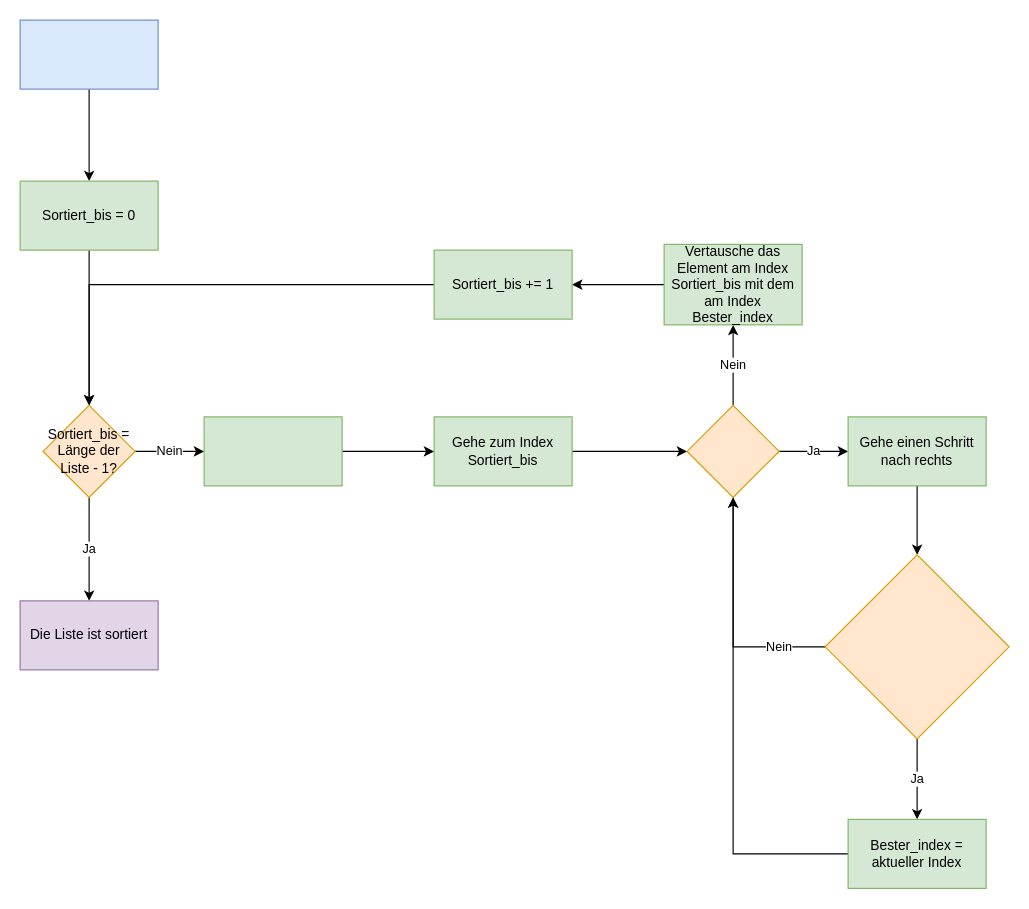
This 1029x909 diagram has some shape labels left out. Each missing label, with the centre of its shape:
"Bester_index = Sortiert_bis" goes at point 272,451.
"Ist das aktuelle Element kleiner als das Element am Index Bester_index?" goes at point 916,646.
"Kann ich einen Schritt nach rechts gehen?" goes at point 732,450.
"Selection Sort" goes at point 88,54.
